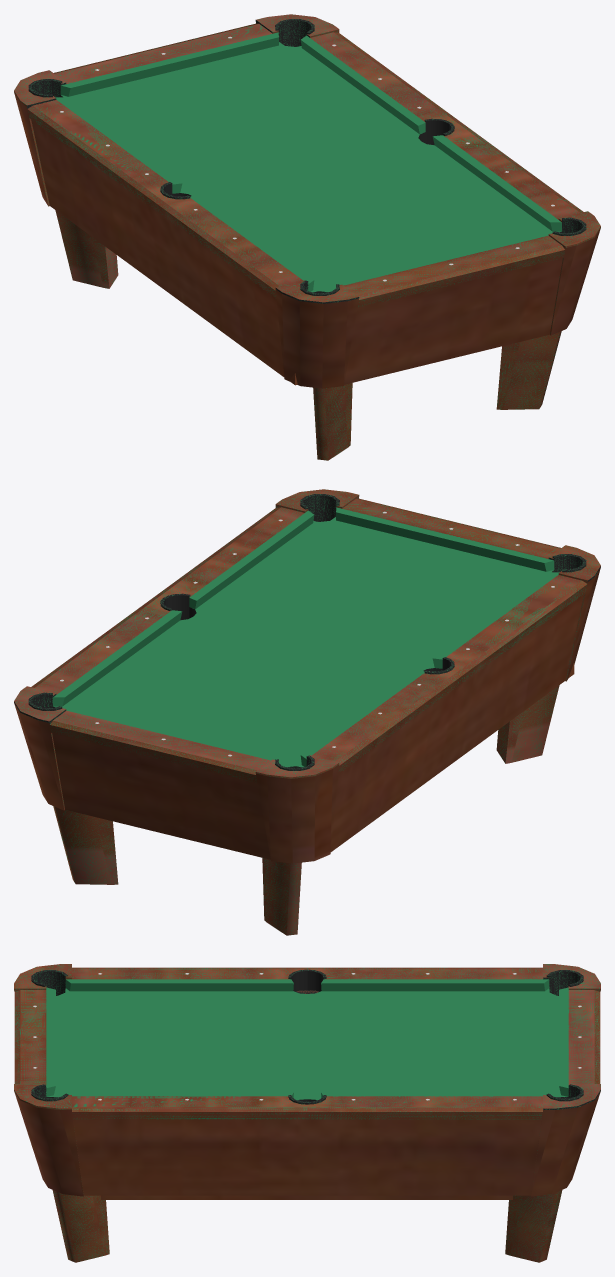
Rendered from pool_table.dae.
The picture shows the model from 3 angles, top to bottom: view 1: azimuth 30°, elevation 25°; view 2: azimuth 150°, elevation 25°; view 3: azimuth 270°, elevation 25°; orthographic projection. The views are drawn at different scales.
Visible parts, largest first — view 1: SketchUp (×13); view 2: SketchUp (×12); view 3: SketchUp (×12).
Part boxes in pixels (x1,y1,x2,y2): SketchUp (×13): [14, 14, 600, 460]; SketchUp (×12): [14, 489, 600, 935]; SketchUp (×12): [14, 964, 600, 1262].
Size of the model in its own units: 53 by 91 by 30.1.
Materials: 5 (1 with a texture image).
